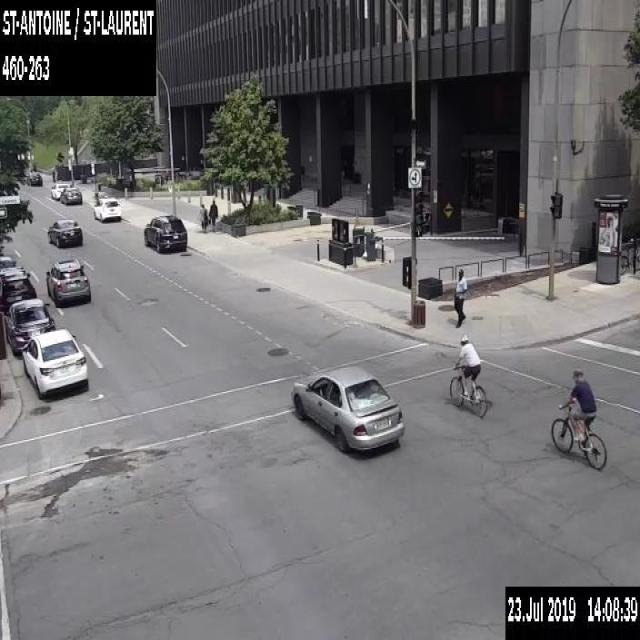cyclist: (550, 368, 606, 471), (448, 332, 488, 419)
pedestrian: (453, 268, 466, 328), (208, 200, 218, 230), (199, 202, 207, 233), (52, 168, 55, 181)
vehicle: (290, 364, 406, 453), (22, 327, 88, 398), (3, 297, 54, 353), (45, 256, 91, 307), (0, 264, 36, 316), (143, 213, 187, 252), (48, 218, 82, 246), (93, 195, 122, 222), (59, 186, 82, 204), (50, 182, 71, 199), (26, 171, 43, 185), (0, 254, 15, 268)
